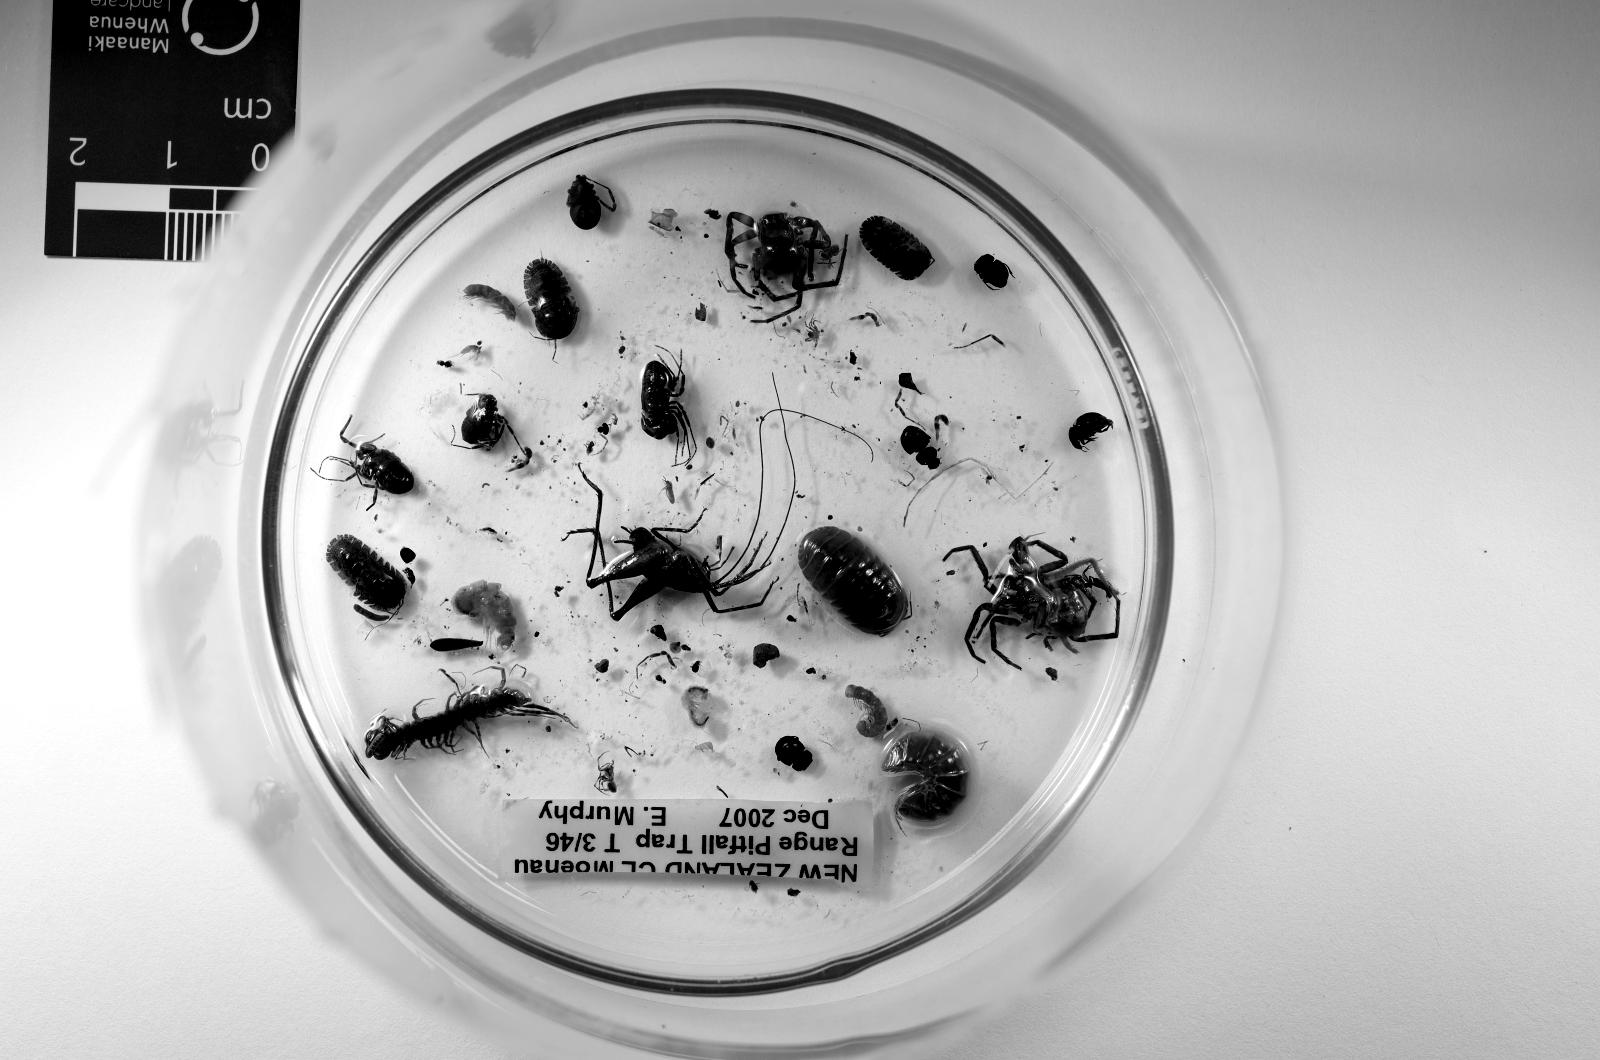acari: (691, 659, 704, 674)
amphipoda: (453, 581, 516, 649), (681, 686, 713, 726)
araneae: (944, 537, 1119, 665), (725, 211, 847, 323), (594, 761, 618, 795), (807, 319, 822, 344)
chilopoda: (365, 665, 569, 761)
coleoptera: (900, 426, 940, 468), (1069, 413, 1113, 451), (974, 254, 1012, 289), (775, 736, 812, 770)
diplopoda: (843, 684, 887, 739)
isopoda: (797, 528, 909, 636), (881, 730, 969, 823), (325, 535, 407, 612), (860, 214, 934, 279), (522, 258, 578, 342)
opiliones: (312, 426, 413, 506), (641, 360, 697, 463), (459, 394, 510, 451), (565, 174, 616, 230)
orthoptera: (563, 472, 769, 621)
